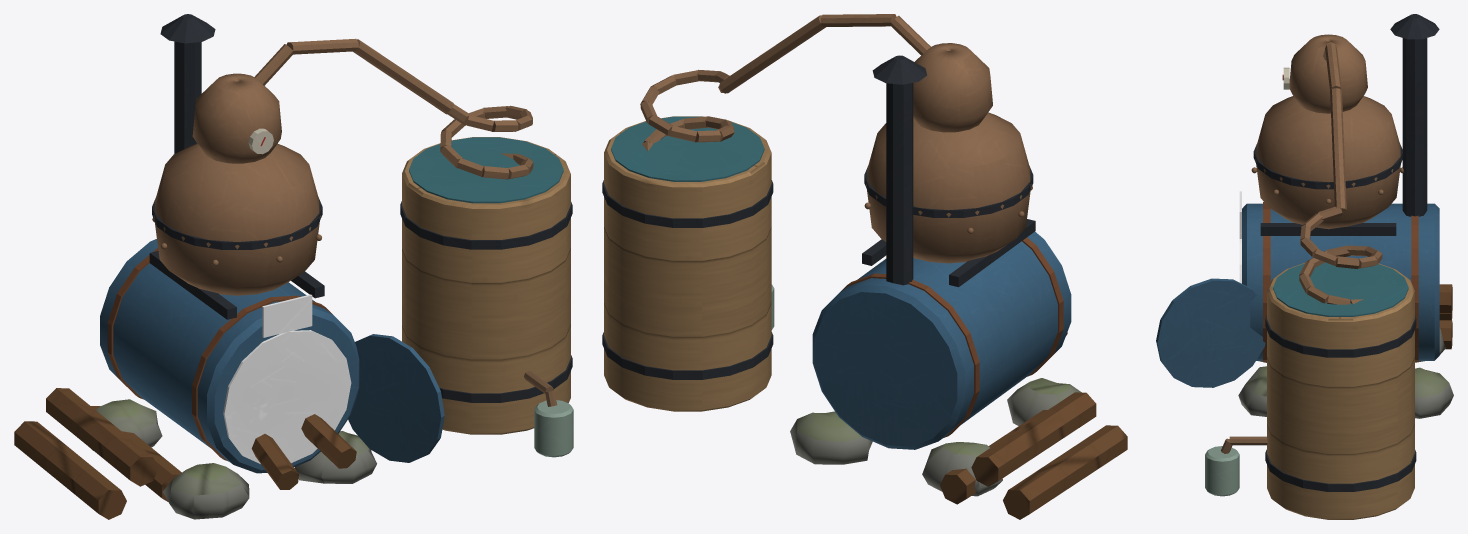
File: water_still.glb
3 views of the same model, side by side, from view 1: azimuth 30°, elevation 25°; view 2: azimuth 150°, elevation 25°; view 3: azimuth 270°, elevation 25° (orthographic). The views are drawn at different scales.
Parts seen in each view (by area): view 1: water_still; view 2: water_still; view 3: water_still.
Boxes of the visible parts, x1,y1,x2,y2 form: water_still: [14, 14, 573, 519]; water_still: [602, 14, 1127, 519]; water_still: [1156, 14, 1453, 519].
Size of the model in its own units: 2.01 by 1.63 by 1.21.
Materials: 13 (13 with a texture image).
